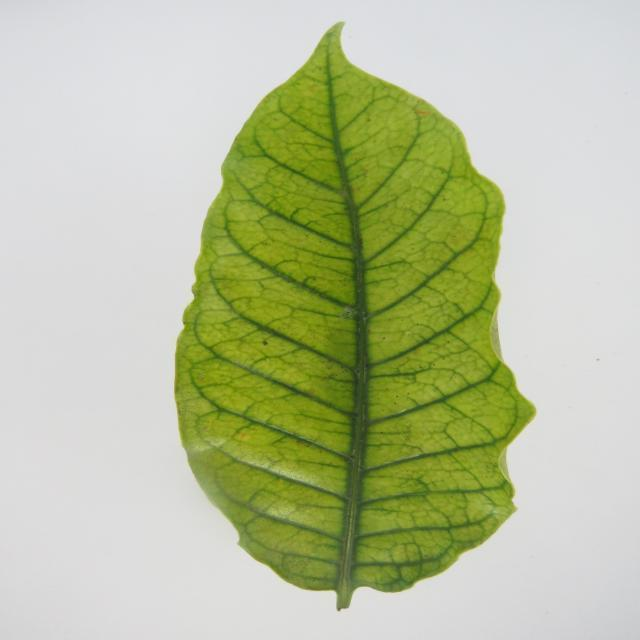DeficienciaNutricional-Magnesio: (177, 24, 533, 608)
